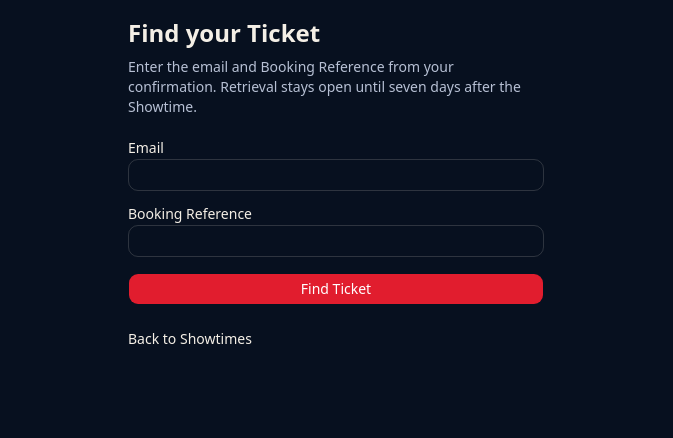
Scenario: RetrieveTicketPage › retrieves the Ticket with a matching email and Booking Reference
Expected: the heading "Find your Ticket" is shown, left=128, top=16, right=320, bottom=49
Type "AISYAH@example.com" into the field labelled "Email" at (336, 175), box left=128, top=159, right=544, bottom=191
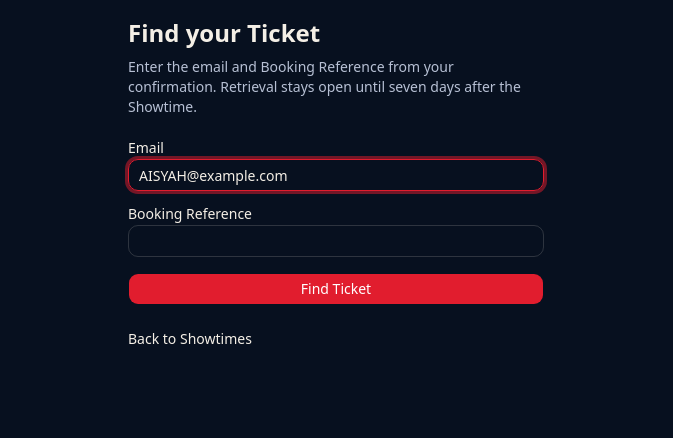
Type " k7qx2m9t4d " into the field labelled "Booking Reference" at (336, 241), box left=128, top=225, right=544, bottom=257
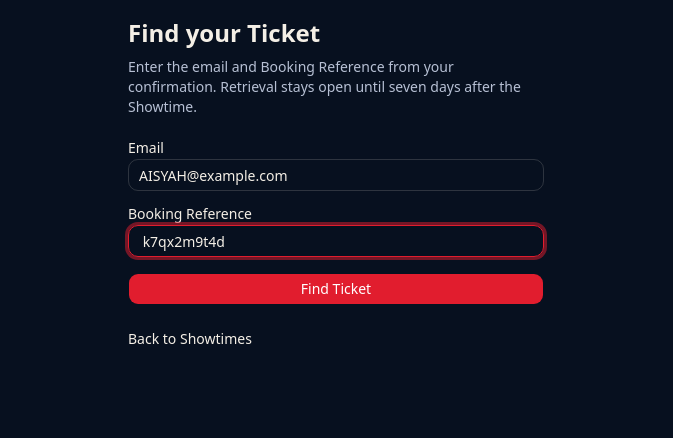
Click the button "Find Ticket" at (336, 289), box left=128, top=273, right=544, bottom=305
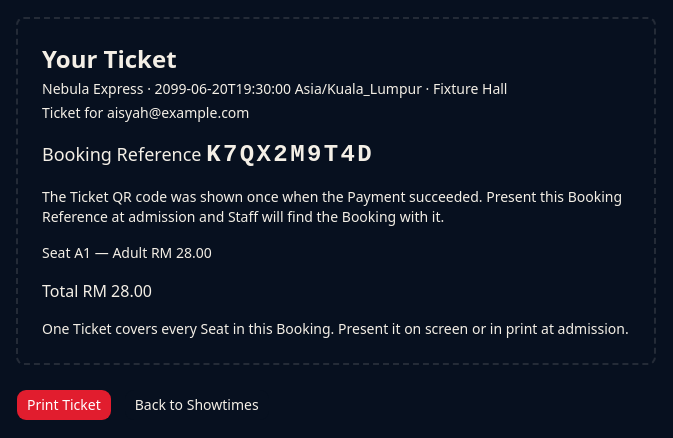
Expected: the text "K7QX2M9T4D" is shown, left=206, top=141, right=374, bottom=168
Expected: the text "Nebula Express" is shown, left=42, top=79, right=144, bottom=98
Expected: the list item "Seat A1 — Adult RM 28.00" is shown, left=42, top=243, right=212, bottom=262
